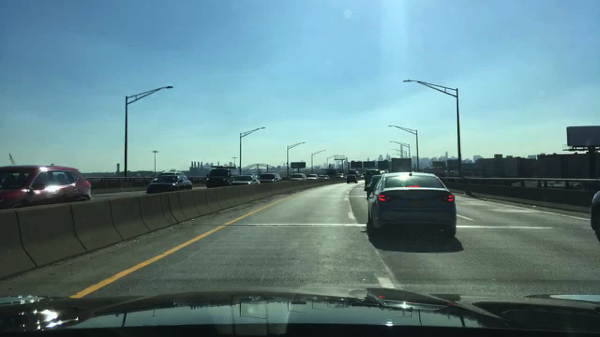car: (366, 172, 457, 235), (0, 165, 93, 208), (146, 175, 192, 194), (206, 165, 233, 188), (589, 189, 599, 240), (363, 175, 383, 198), (150, 171, 187, 183), (232, 173, 260, 185), (365, 169, 381, 186), (258, 172, 281, 183), (290, 173, 307, 181), (345, 174, 358, 184), (347, 169, 360, 177), (306, 173, 319, 179), (318, 174, 329, 179), (335, 173, 345, 178), (359, 171, 365, 176)
traffic sign: (376, 159, 390, 169), (290, 162, 304, 169), (349, 161, 361, 168), (363, 161, 375, 168)
truck: (386, 157, 411, 173)
